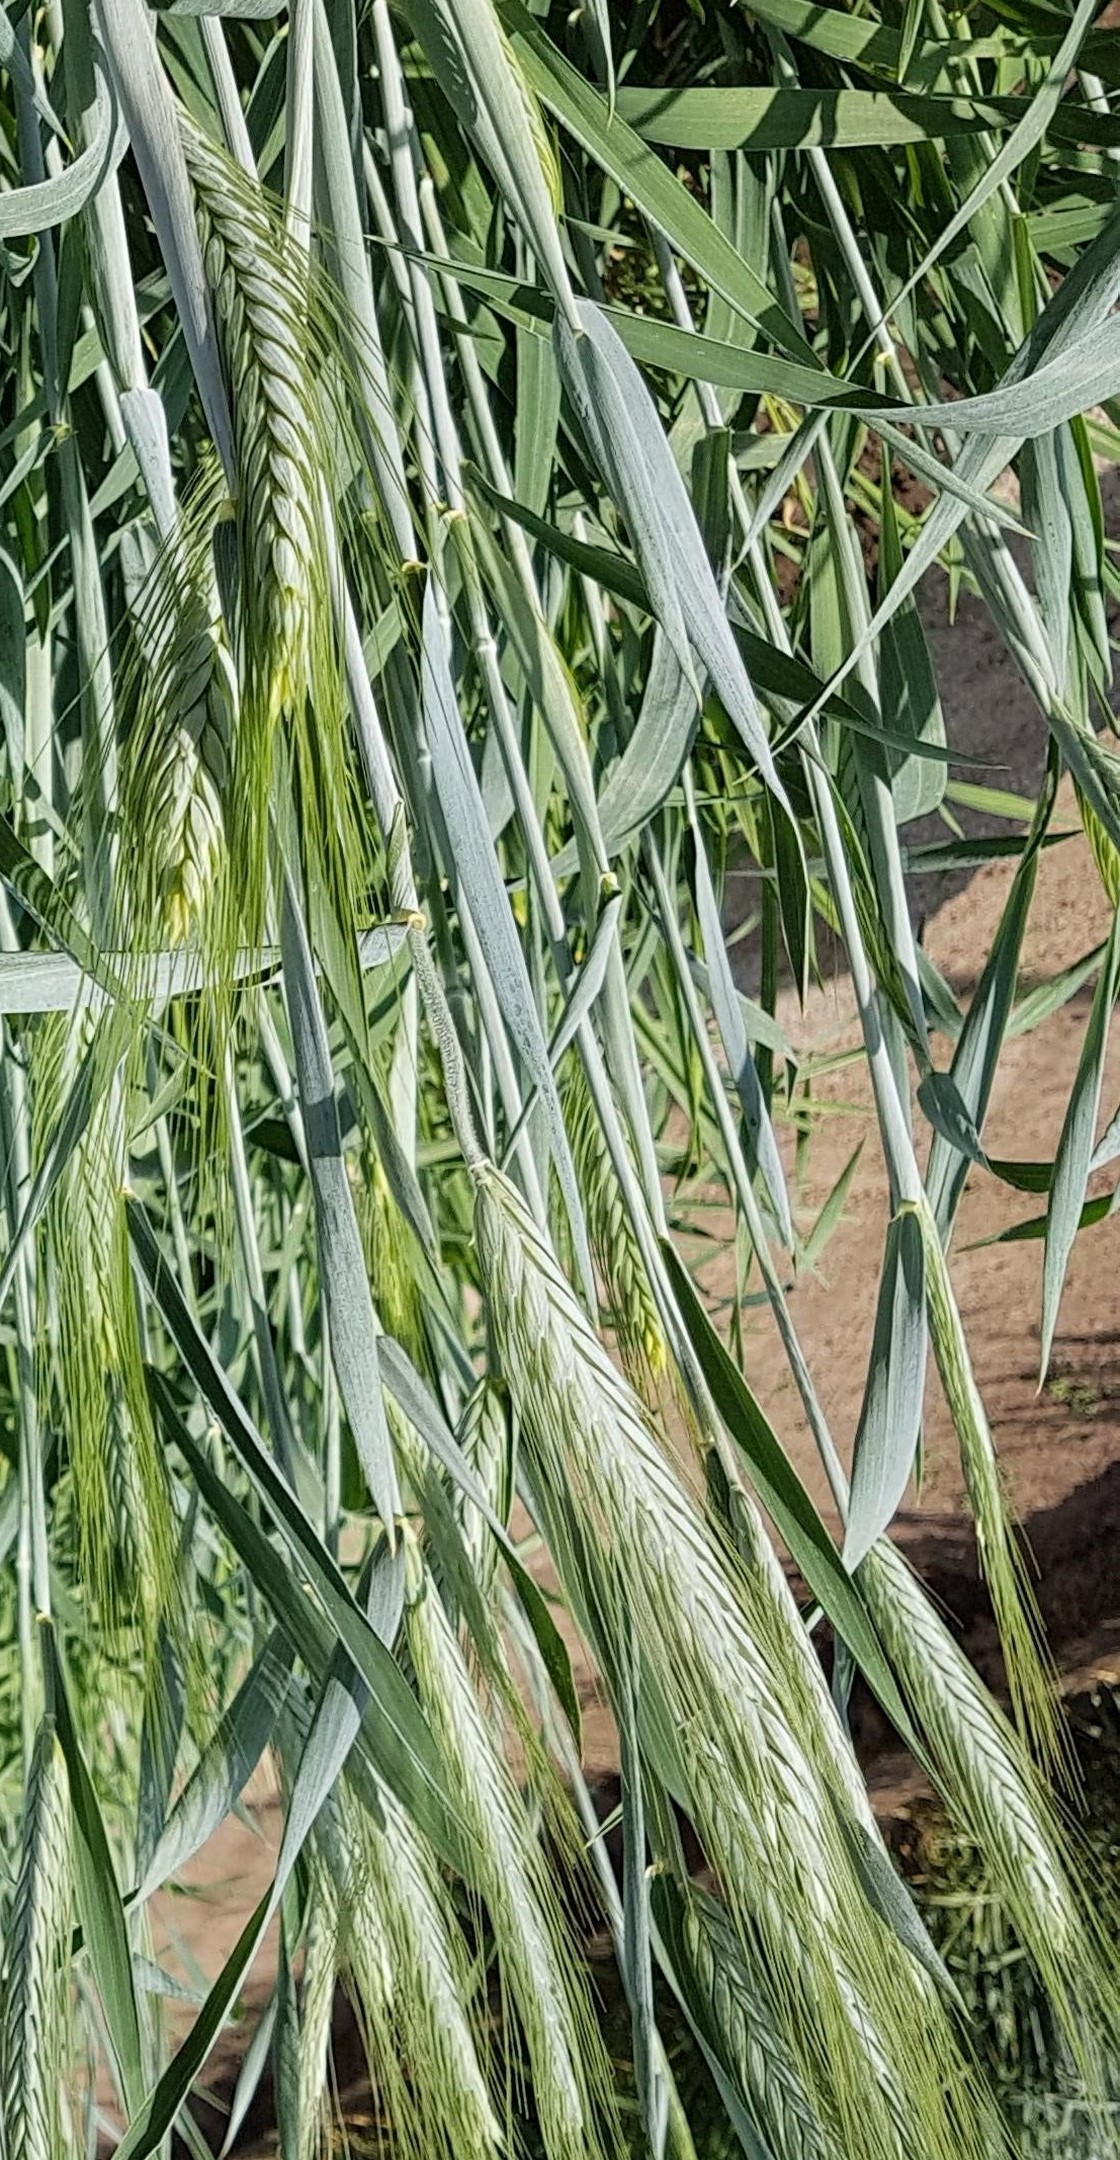Healthy Wheat: (421, 1154, 809, 1880), (814, 1517, 1120, 1987), (156, 121, 401, 656)
